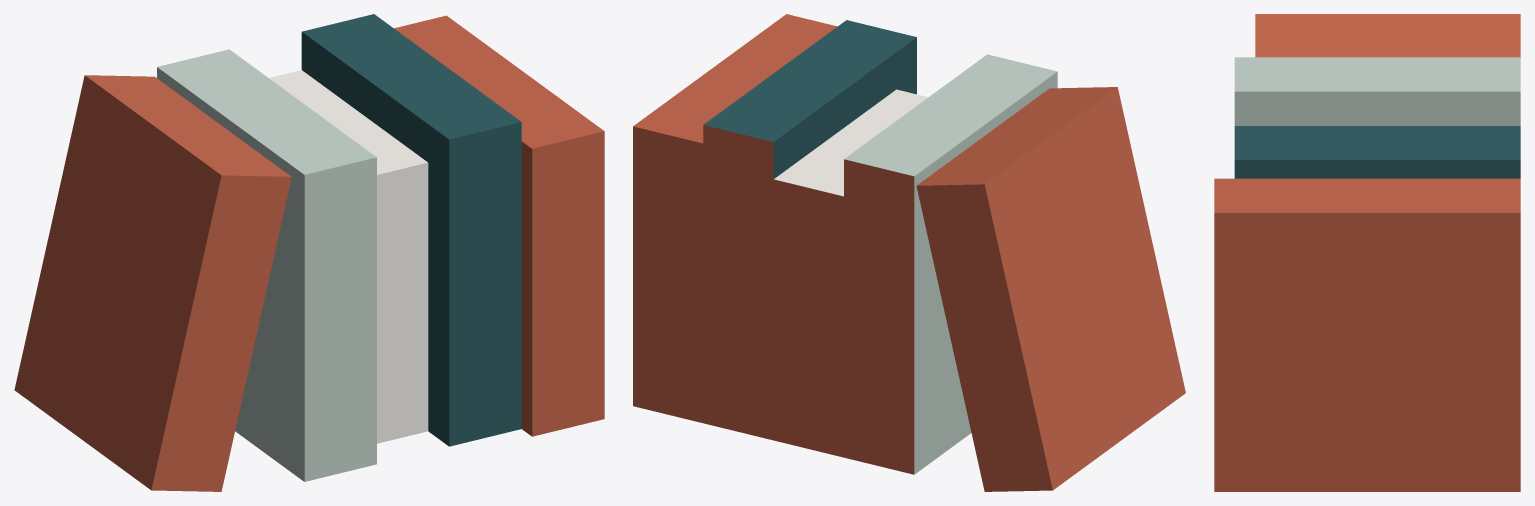
Rendered from books.glb.
The picture shows the model from 3 angles, left to right: view 1: azimuth 30°, elevation 25°; view 2: azimuth 150°, elevation 25°; view 3: azimuth 270°, elevation 25°; orthographic projection. The views are drawn at different scales.
Visible parts, largest first — view 1: books; view 2: books; view 3: books.
Part boxes in pixels (x1,y1,x2,y2): books: (14, 14, 604, 491); books: (633, 14, 1185, 491); books: (1214, 14, 1520, 491).
Bounding box in the file's own units: 0.3 × 0.21 × 0.19.
